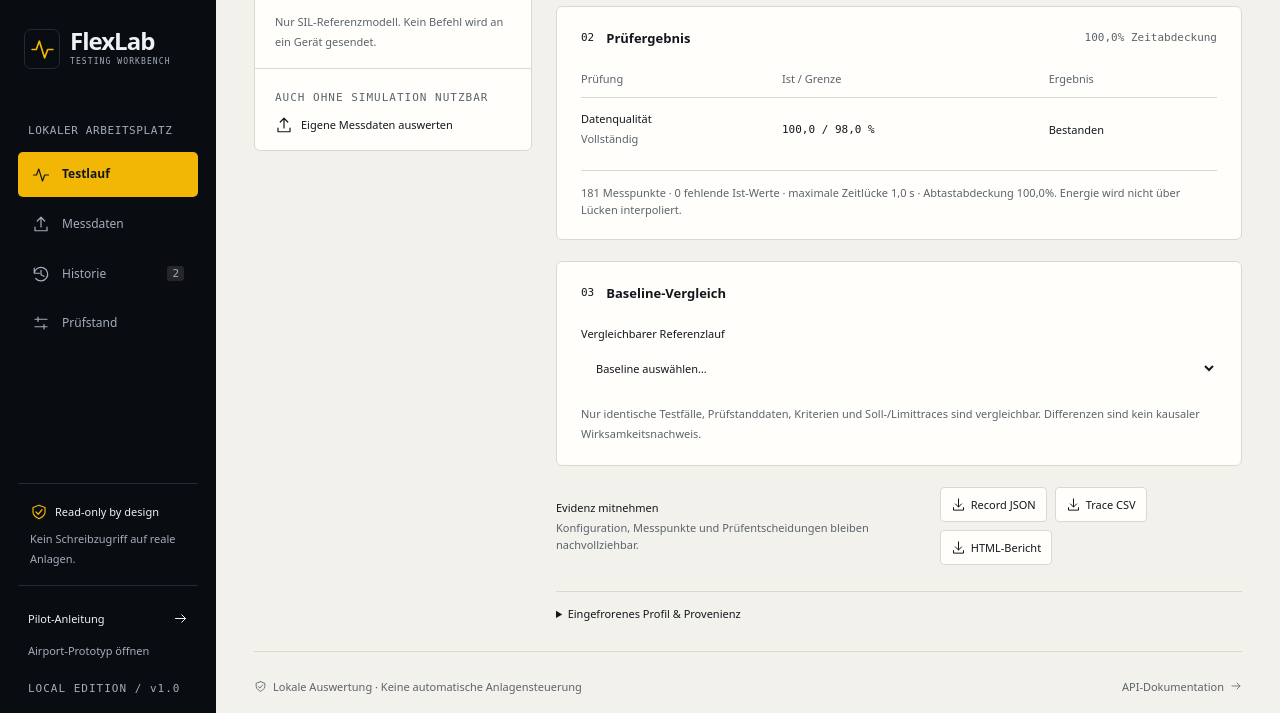
Scenario: FlexLab Workbench › renders baseline deltas and a downloadable comparison report
The width and height of the screenshot is (1280, 713).
(page scrolled)
Select "Referenz · Simulation · 2.10.2026, 10:00:00" in the dropdown labelled "Vergleichbarer Referenzlauf" at (899, 368), box [581, 348, 1217, 389]
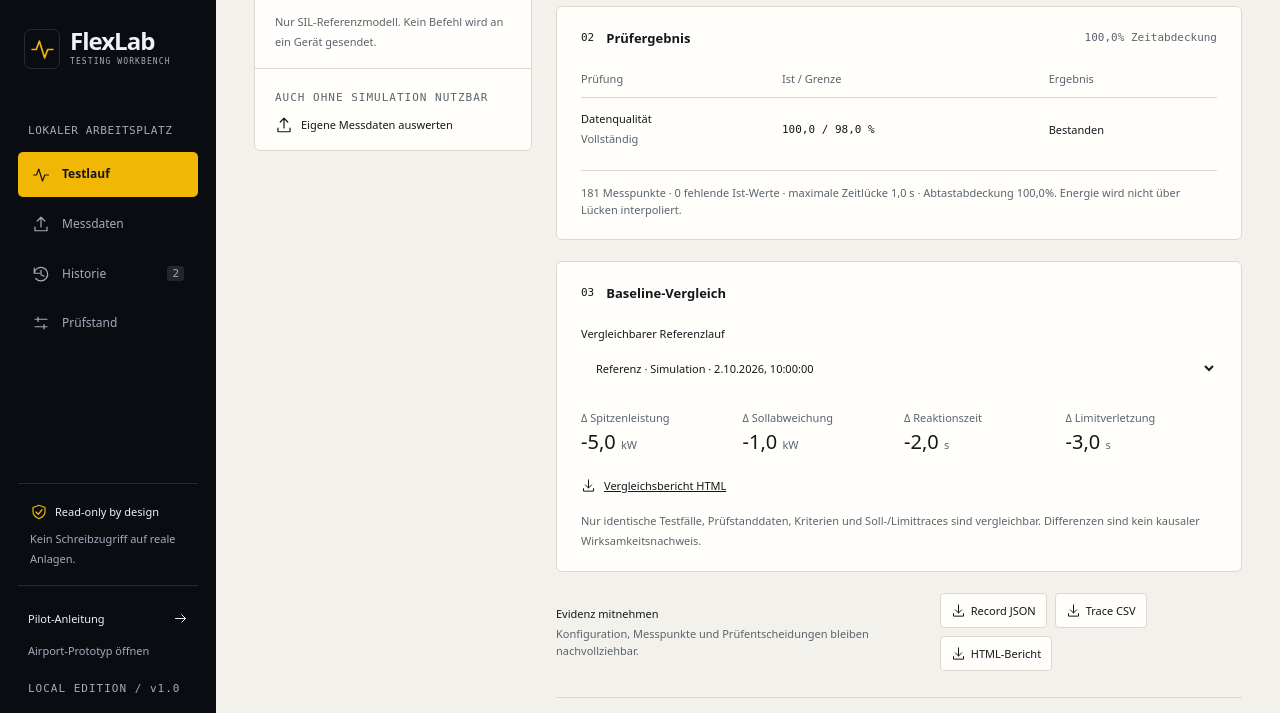
Expected: the text "Δ Sollabweichung" is shown, [742, 410, 833, 425]
